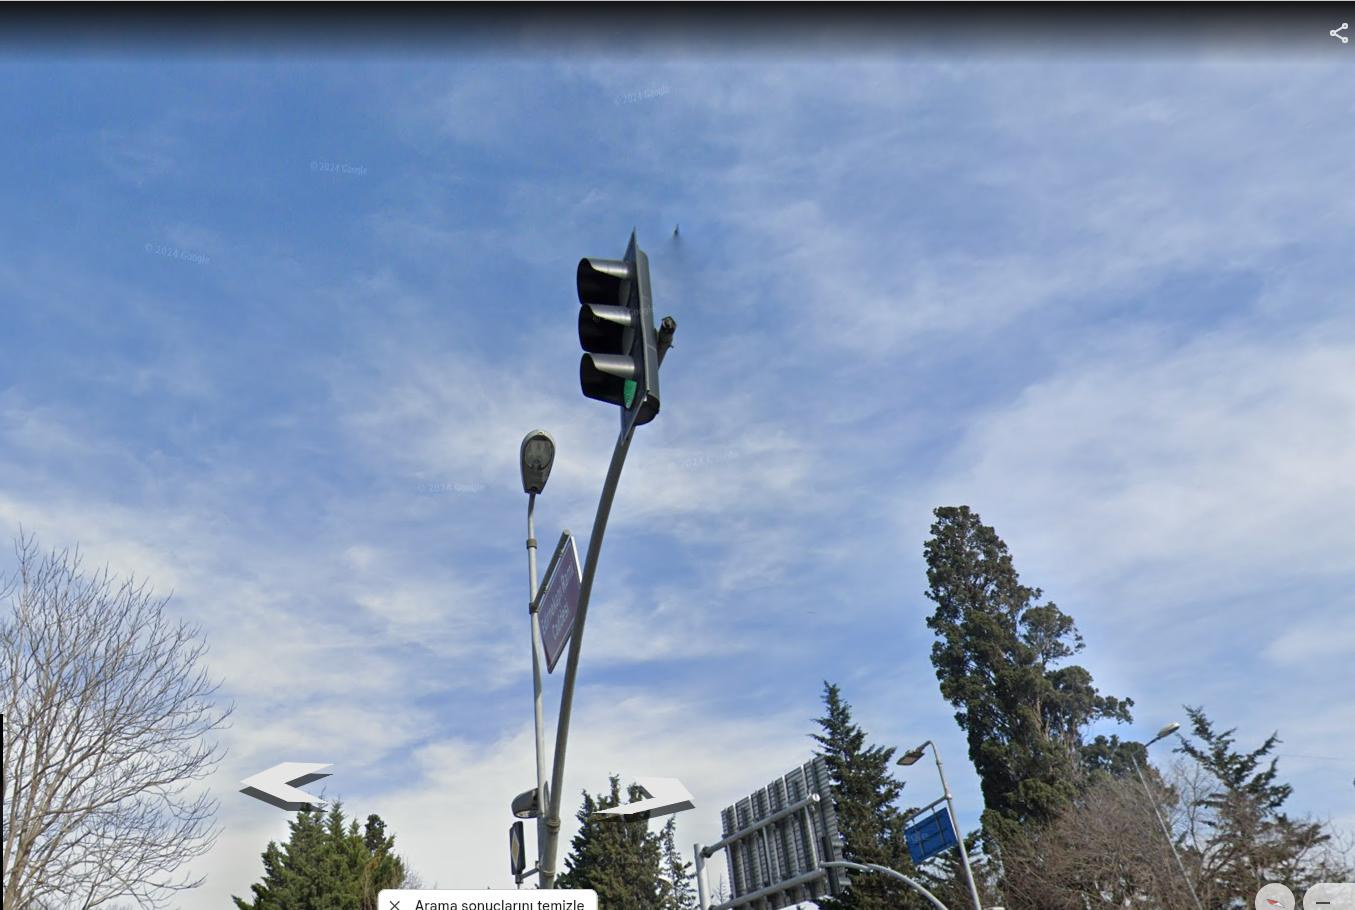greenlight: (576, 242, 668, 427)
